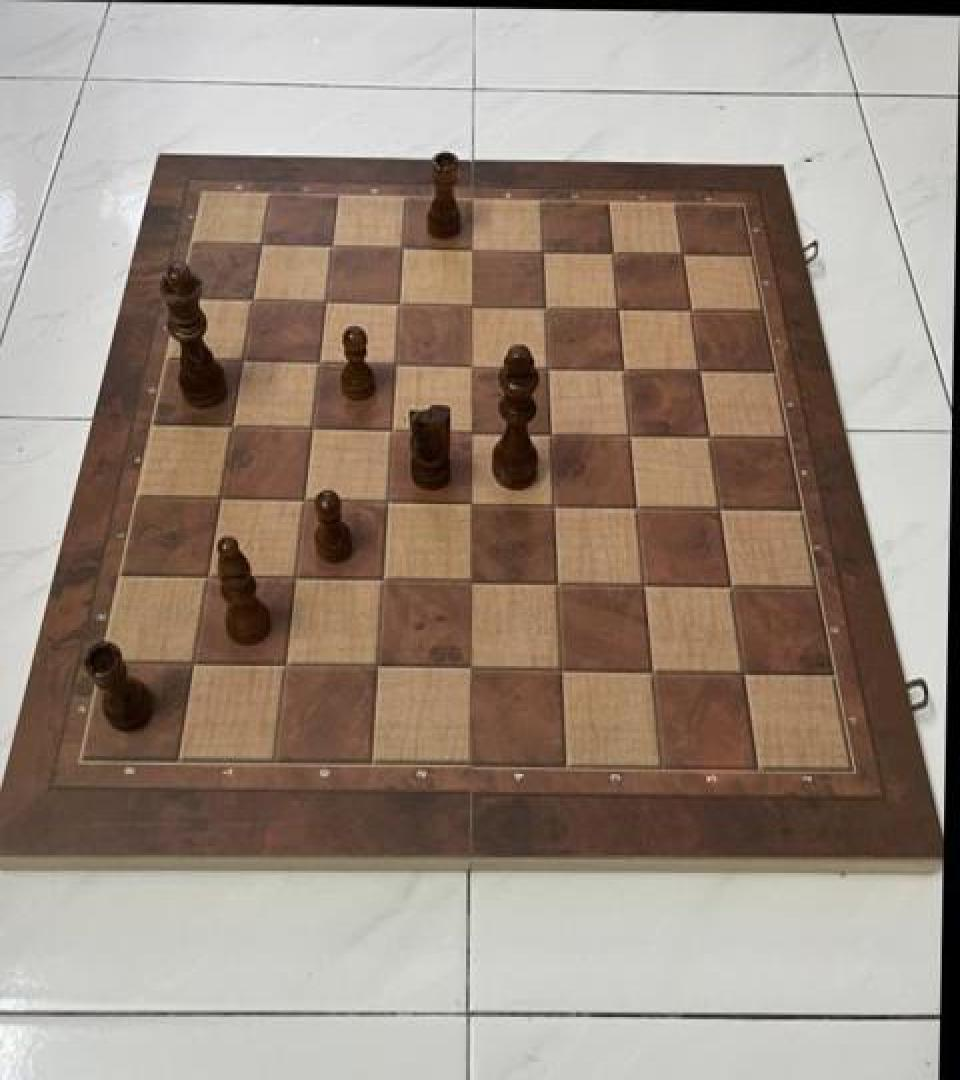xcorner: (546, 652, 578, 689), (636, 653, 668, 690), (245, 228, 277, 264), (316, 230, 348, 266), (387, 232, 419, 268), (457, 233, 489, 269), (527, 235, 559, 271), (597, 236, 629, 272), (667, 238, 699, 274), (237, 284, 269, 320), (310, 286, 342, 322), (384, 287, 416, 323), (457, 289, 489, 325), (530, 290, 562, 326), (602, 292, 634, 328), (675, 294, 707, 330), (227, 344, 259, 380), (304, 346, 336, 382), (380, 348, 412, 384), (456, 349, 488, 385), (532, 351, 564, 387), (608, 352, 640, 388), (683, 353, 715, 389), (217, 410, 249, 446), (297, 412, 329, 448), (377, 414, 409, 450), (456, 415, 488, 451), (535, 416, 567, 452), (614, 418, 646, 454), (693, 420, 725, 456), (205, 482, 237, 518), (289, 484, 321, 520), (373, 485, 405, 521), (456, 486, 488, 522), (538, 488, 570, 524), (621, 490, 653, 526), (703, 490, 735, 526), (193, 562, 225, 598), (281, 562, 313, 598), (368, 564, 400, 600), (455, 565, 487, 601), (542, 566, 574, 602), (628, 567, 660, 603), (714, 569, 746, 605), (180, 648, 212, 684), (272, 649, 304, 685), (363, 650, 395, 686), (455, 652, 487, 688), (727, 655, 759, 691)
